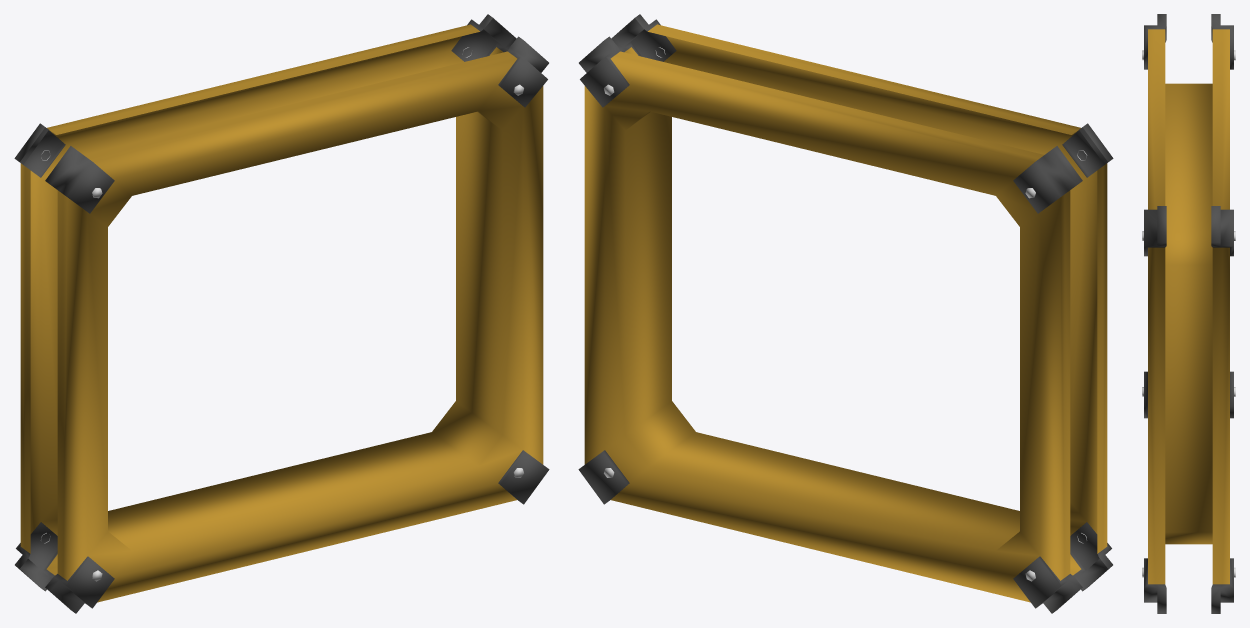
Rendered from WindowReinforced.fbx.
3 renders of one model, left to right at view 1: azimuth 30°, elevation 25°; view 2: azimuth 150°, elevation 25°; view 3: azimuth 270°, elevation 25°, orthographic. The views are drawn at different scales.
Visible parts, largest first — view 1: WindowReinforced; view 2: WindowReinforced; view 3: WindowReinforced, Bolts.
Boxes of the visible parts, x1,y1,x2,y2 form: WindowReinforced: (14,14,549,613); WindowReinforced: (578,14,1113,613); WindowReinforced: (1144,14,1233,613); Bolts: (1142,50,1235,577).
Bounding box in the file's own units: 1.8 × 1.6 × 0.332.
